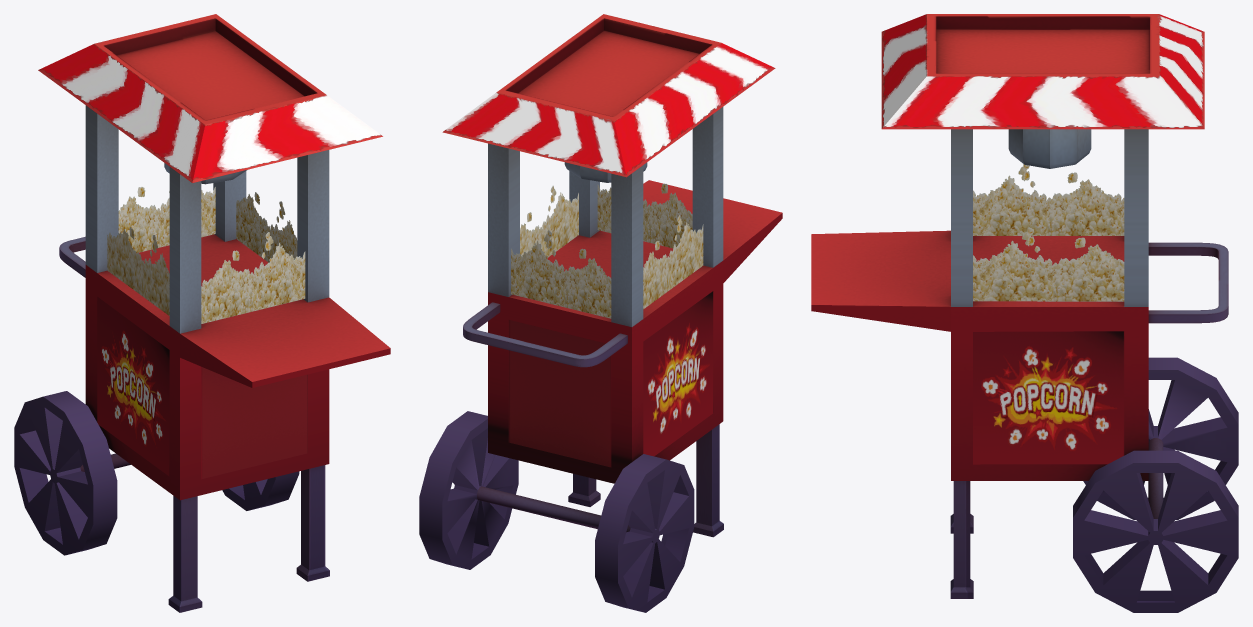
Rendered from popocorn.fbx.
The picture shows the model from 3 angles, left to right: view 1: azimuth 30°, elevation 25°; view 2: azimuth 150°, elevation 25°; view 3: azimuth 270°, elevation 25°; orthographic projection. The views are drawn at different scales.
Parts seen in each view (by area): view 1: Popcorn_machine, glass_popcorn; view 2: Popcorn_machine, glass_popcorn; view 3: Popcorn_machine, glass_popcorn.
Boxes of the visible parts, bbox=[...] form: Popcorn_machine: bbox=[14, 14, 390, 612]; glass_popcorn: bbox=[107, 187, 305, 323]; Popcorn_machine: bbox=[419, 14, 782, 612]; glass_popcorn: bbox=[511, 183, 703, 318]; Popcorn_machine: bbox=[811, 14, 1238, 612]; glass_popcorn: bbox=[973, 164, 1124, 301].
Bounding box in the file's own units: 82.93 × 143 × 190.
Materials: 2 (2 with a texture image).
